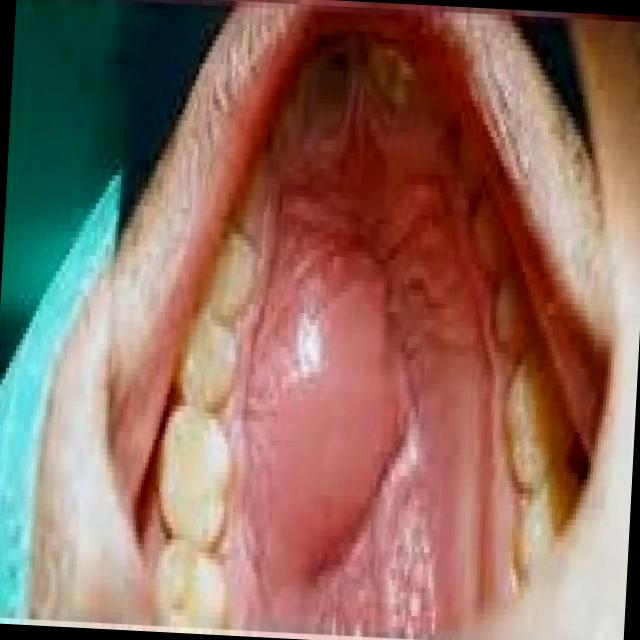abscess: (220, 247, 454, 610)
